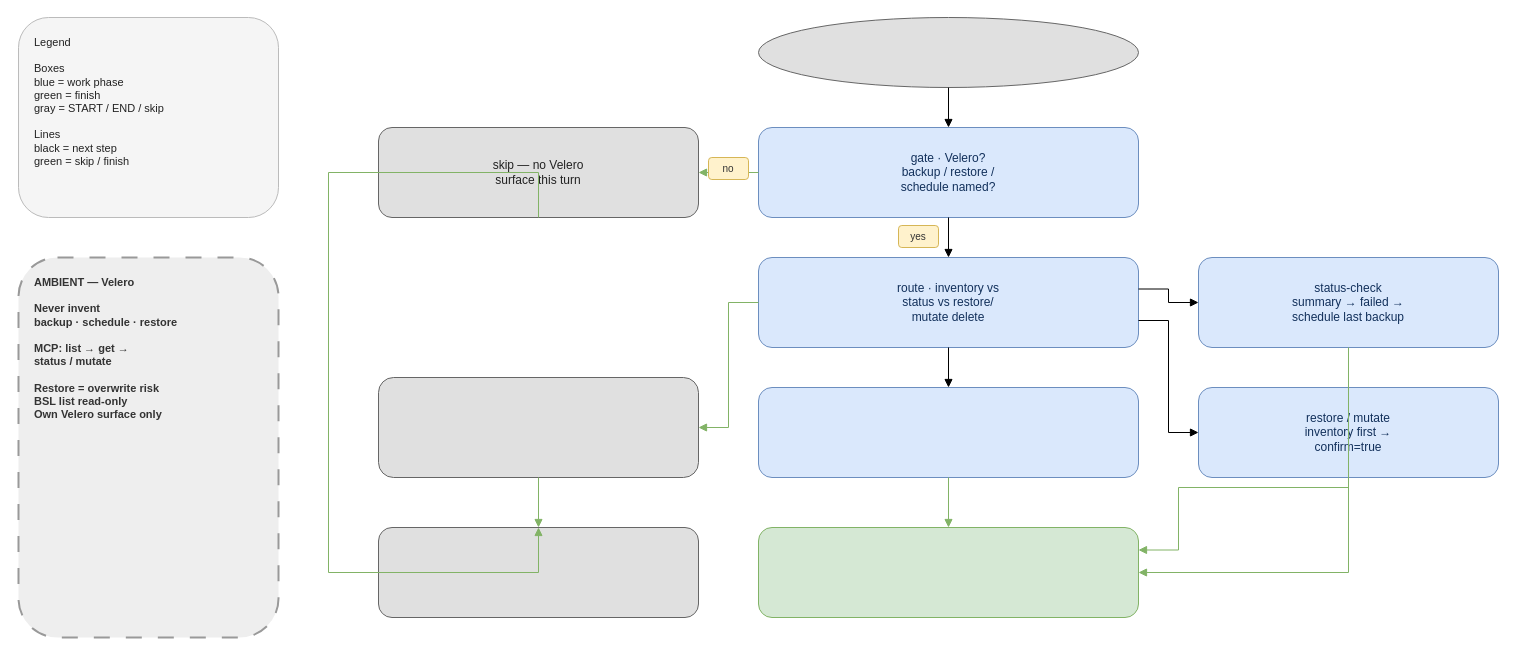
Image size: 1516x656. Some labels were removed from this diagram. Here are the shapes that lost their labels. From the top down, the box of each, then its label:
(758, 16, 1138, 88): START — user ask
(378, 376, 698, 478): refuse / gate mutate no verb · no confirm (velero-safety)
(758, 386, 1138, 478): inventory list → get → name + phase + ns
(378, 526, 698, 618): END — stay out
(758, 526, 1138, 618): END — name + phase + namespaces / receipt
